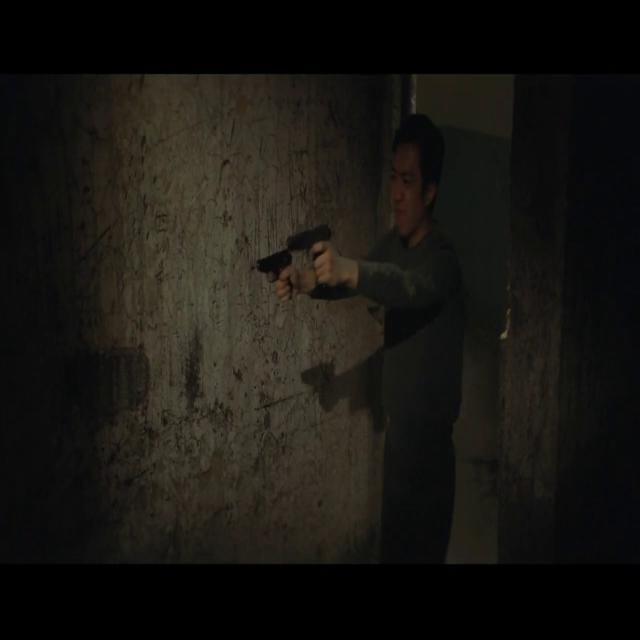gun-knife-thesis - v11 Yolov5 augmented: (286, 216, 331, 291), (253, 245, 295, 304)
